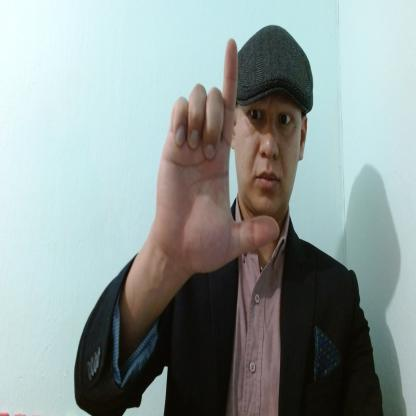L: (158, 38, 279, 275)
